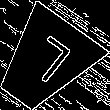L_SW: (16, 33, 73, 92)
